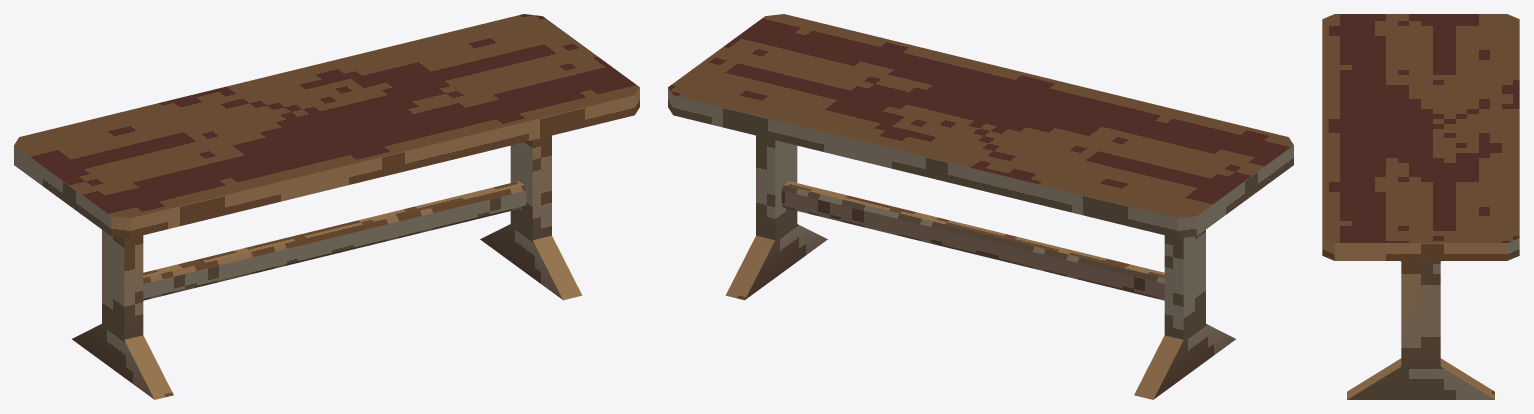
The model's file is wprop.table__long.glb.
3 renders of one model, left to right at view 1: azimuth 30°, elevation 25°; view 2: azimuth 150°, elevation 25°; view 3: azimuth 270°, elevation 25°, orthographic. The views are drawn at different scales.
Visible parts, largest first — view 1: kit_top, kit_legs, kit_stretcher; view 2: kit_top, kit_legs, kit_stretcher; view 3: kit_top, kit_legs.
Part boxes in pixels (x1,y1,x2,y2): kit_top: (14,14,639,238); kit_legs: (72,135,582,399); kit_stretcher: (143,181,526,300); kit_top: (668,14,1293,238); kit_legs: (725,135,1235,399); kit_stretcher: (781,181,1164,300); kit_top: (1322,14,1519,260); kit_legs: (1347,261,1494,399).
Size of the model in its own units: 2.2 by 0.8 by 0.8.
Materials: 2 (2 with a texture image).
